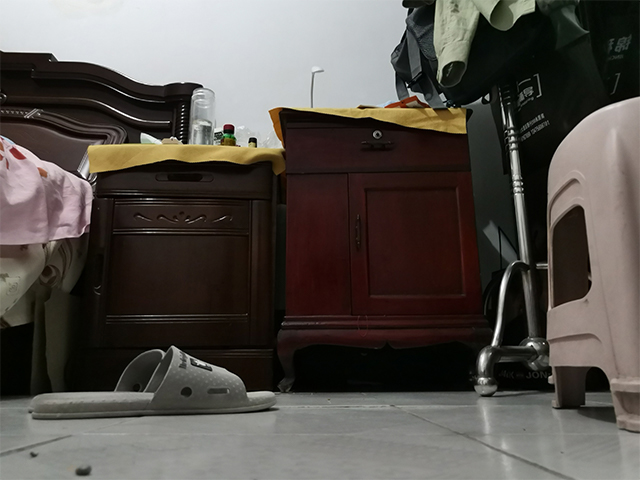bed: (1, 48, 206, 398)
cabinet: (267, 104, 495, 396), (84, 141, 281, 395)
slippers: (26, 343, 280, 422)
stool: (541, 94, 640, 435)
